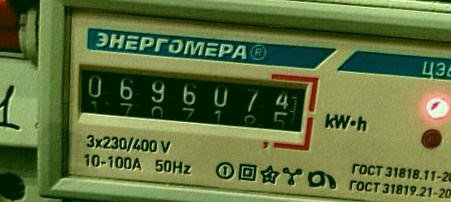0: (84, 73, 105, 100), (210, 82, 230, 110)
4: (273, 87, 291, 111)
5: (271, 110, 288, 131)
6: (178, 79, 199, 108), (116, 75, 136, 102)
7: (242, 86, 261, 114)
9: (148, 77, 166, 104)
screen: (62, 51, 322, 155)
